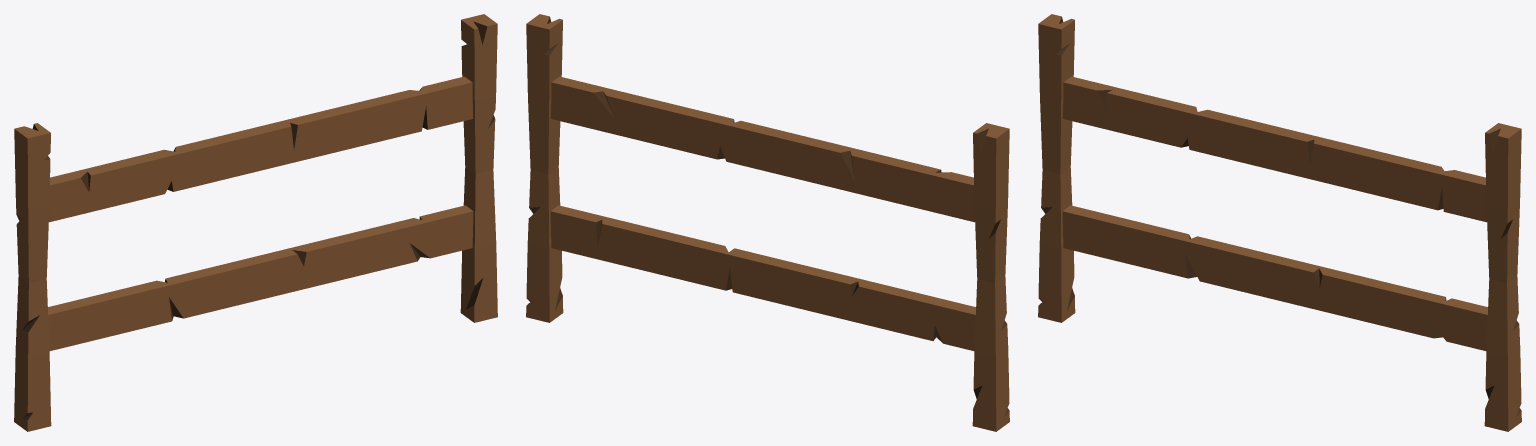
File: Fence_1_Light_Brown.fbx
3 views of the same model, side by side, from view 1: azimuth 30°, elevation 25°; view 2: azimuth 150°, elevation 25°; view 3: azimuth 330°, elevation 25° (orthographic).
Parts seen in each view (by area): view 1: Fence_1_Light_Brown; view 2: Fence_1_Light_Brown; view 3: Fence_1_Light_Brown.
Boxes of the visible parts, <box> form: Fence_1_Light_Brown: <box>14,14,497,431</box>; Fence_1_Light_Brown: <box>526,14,1009,431</box>; Fence_1_Light_Brown: <box>1038,14,1521,431</box>.
Size of the model in its own units: 201 by 120 by 10.09.
